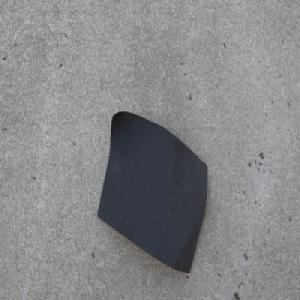PaintChip: (96, 109, 209, 274)
